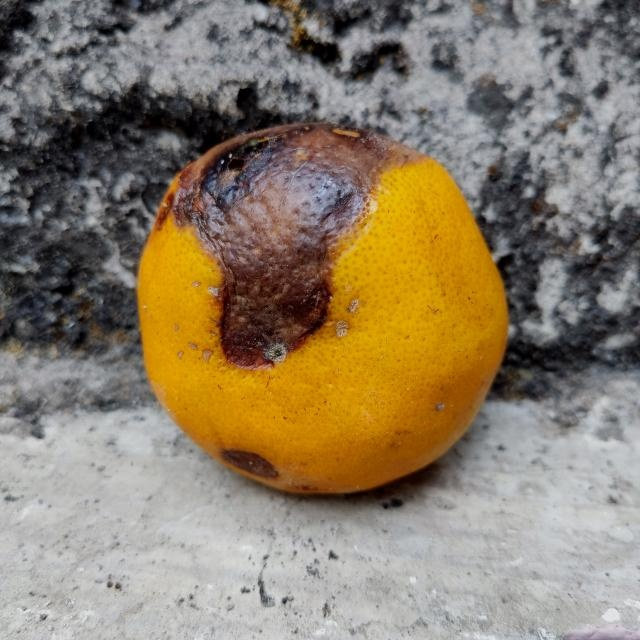agrume: (135, 124, 509, 500)
